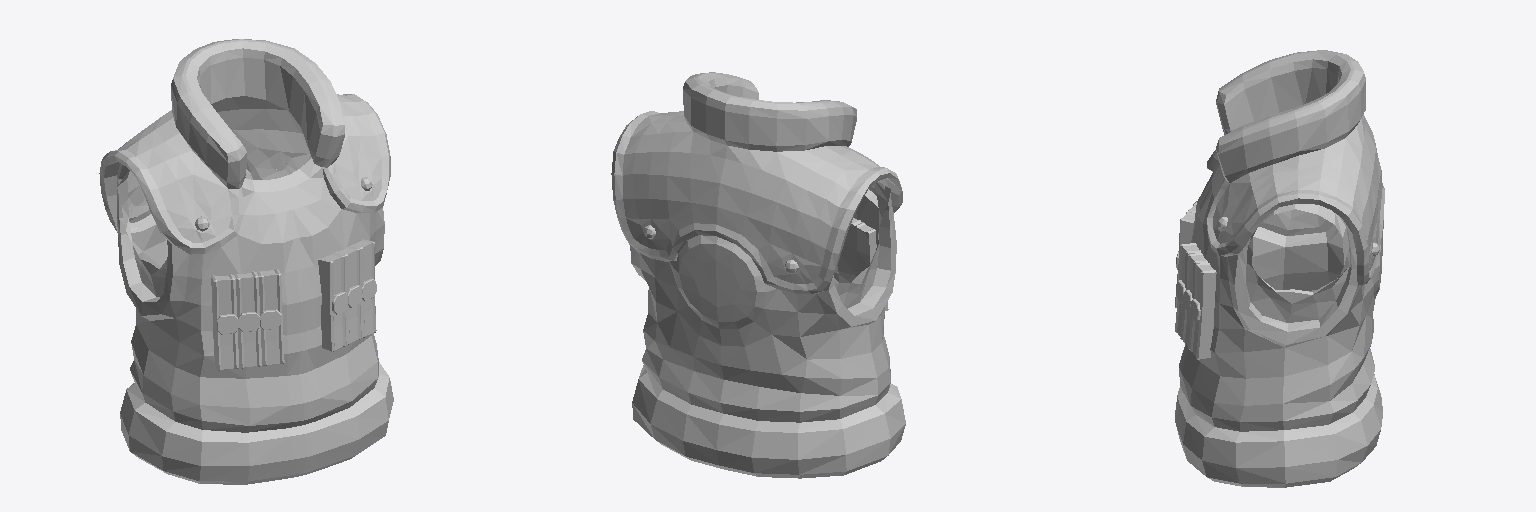
File: ShikamaruVest.obj
3 renders of one model, left to right at view 1: azimuth 30°, elevation 25°; view 2: azimuth 150°, elevation 25°; view 3: azimuth 270°, elevation 25°, orthographic.
Visible parts, largest first — view 1: 5_Upper_Body_1_0_0; view 2: 5_Upper_Body_1_0_0; view 3: 5_Upper_Body_1_0_0.
Boxes of the visible parts, x1,y1,x2,y2 form: 5_Upper_Body_1_0_0: [99, 39, 393, 484]; 5_Upper_Body_1_0_0: [611, 72, 905, 478]; 5_Upper_Body_1_0_0: [1175, 50, 1384, 487].
Bounding box in the file's own units: 0.3947 × 0.5622 × 0.2882.